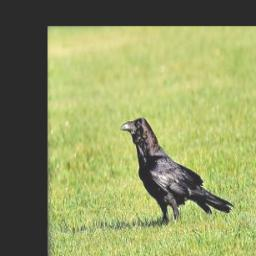Crow: (118, 115, 234, 227)
